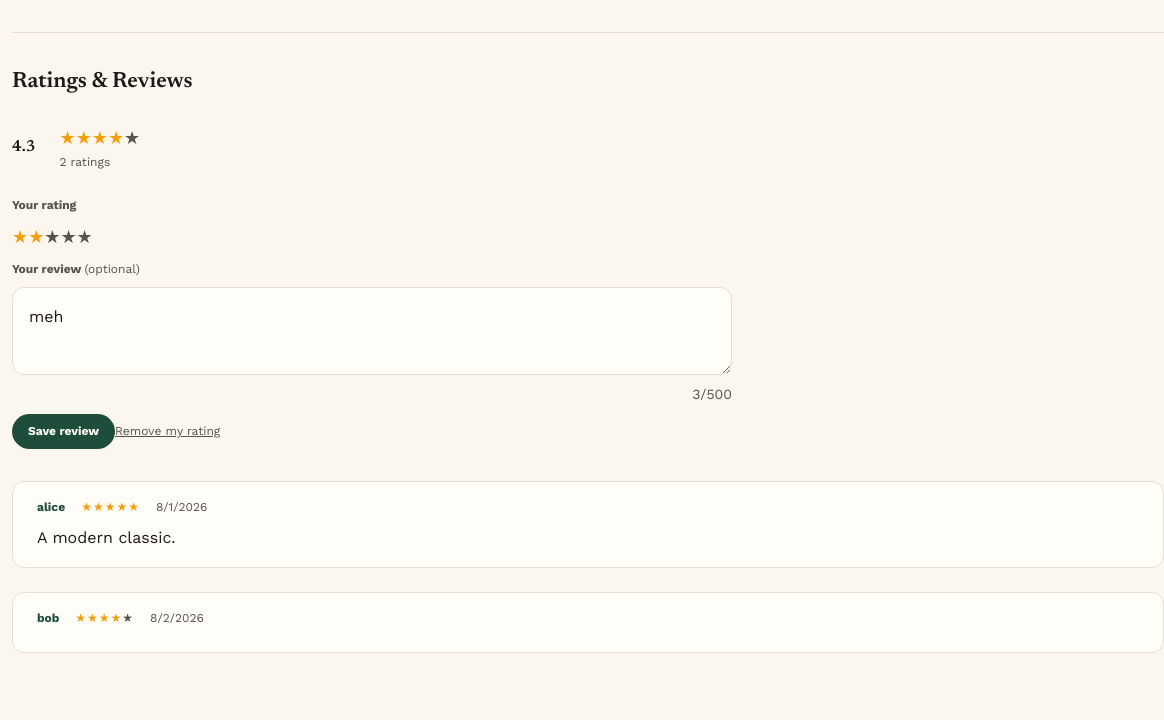
StarRating — signed in › removes the rating and resets the form
Expected: the element showing "★ ★ ★ ★ ★" is shown, [12,223,93,252]
Click the button "Remove my rating".
click(168, 431)  # box [115,414,220,449]
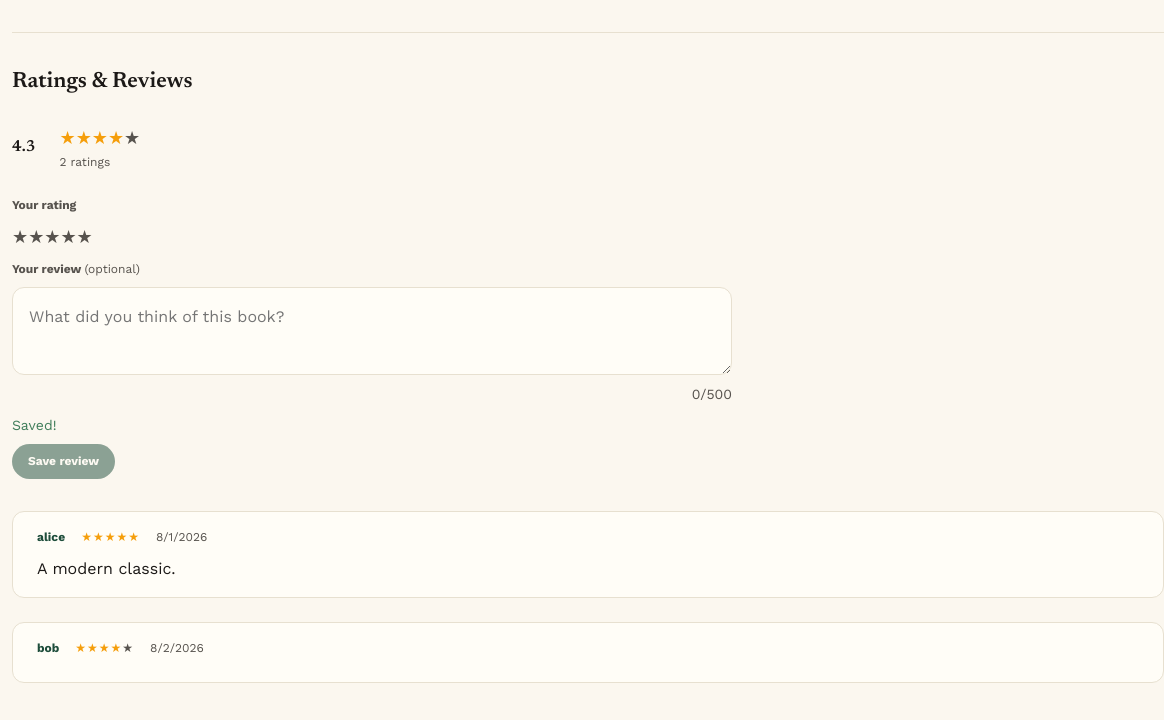
Result: the text box labelled "Your review (optional)" is empty at [12,287,732,375]
Result: the button "Save review" is disabled at [12,444,115,479]
